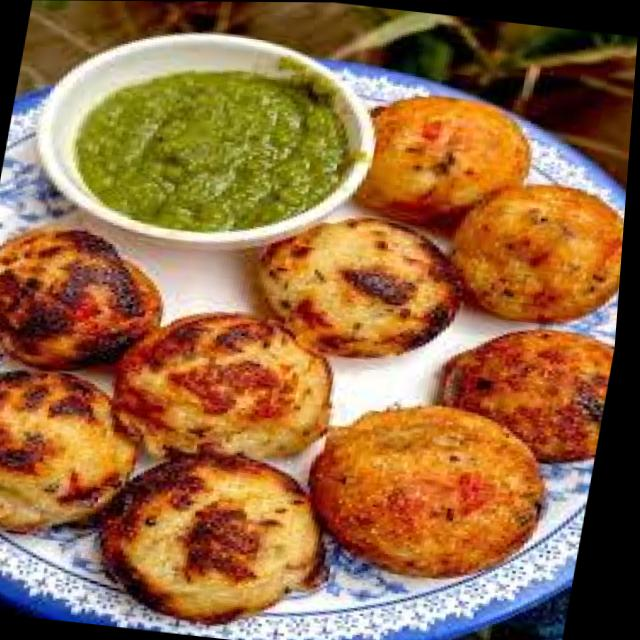GREEN CHUTNEY: (83, 71, 350, 226)
